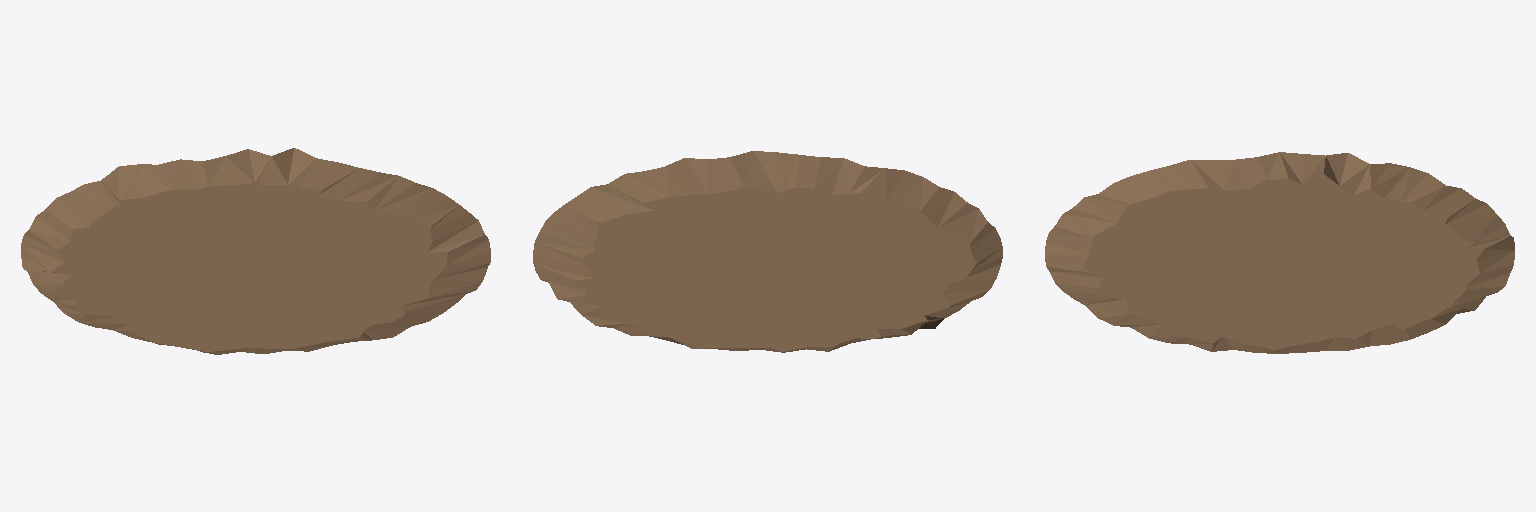
The model's file is landscape.obj.
3 views of the same model, side by side, from view 1: azimuth 30°, elevation 25°; view 2: azimuth 150°, elevation 25°; view 3: azimuth 270°, elevation 25° (orthographic).
Parts seen in each view (by area): view 1: cone2; view 2: cone2; view 3: cone2.
Part boxes in pixels (left/top/right/bottom): cone2: left=21, top=148, right=490, bottom=354; cone2: left=533, top=151, right=1002, bottom=352; cone2: left=1045, top=152, right=1514, bottom=353.
Size of the model in its own units: 2 by 0.0976 by 2.